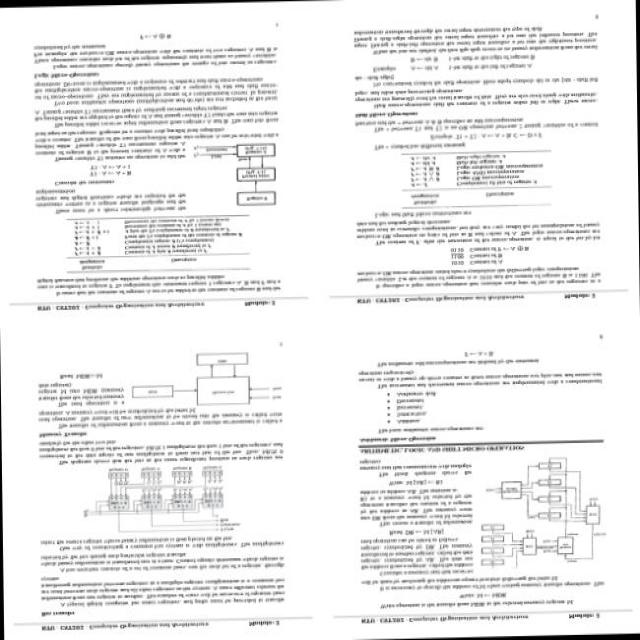Figure Detection - v3 Dataset Version2: (476, 451, 614, 574), (78, 463, 244, 538), (130, 345, 289, 410), (187, 140, 297, 211)
